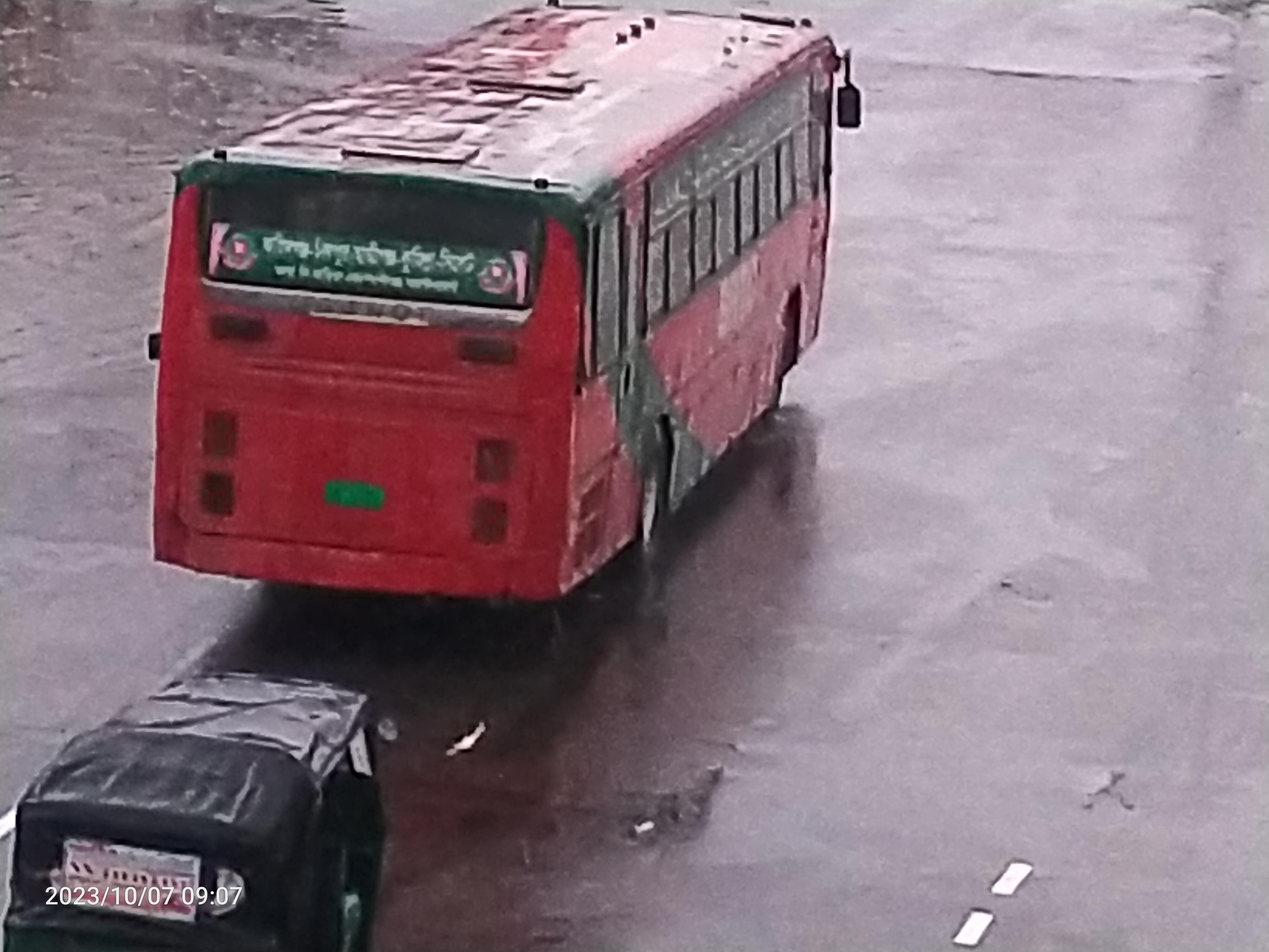Bus: (137, 3, 952, 631)
